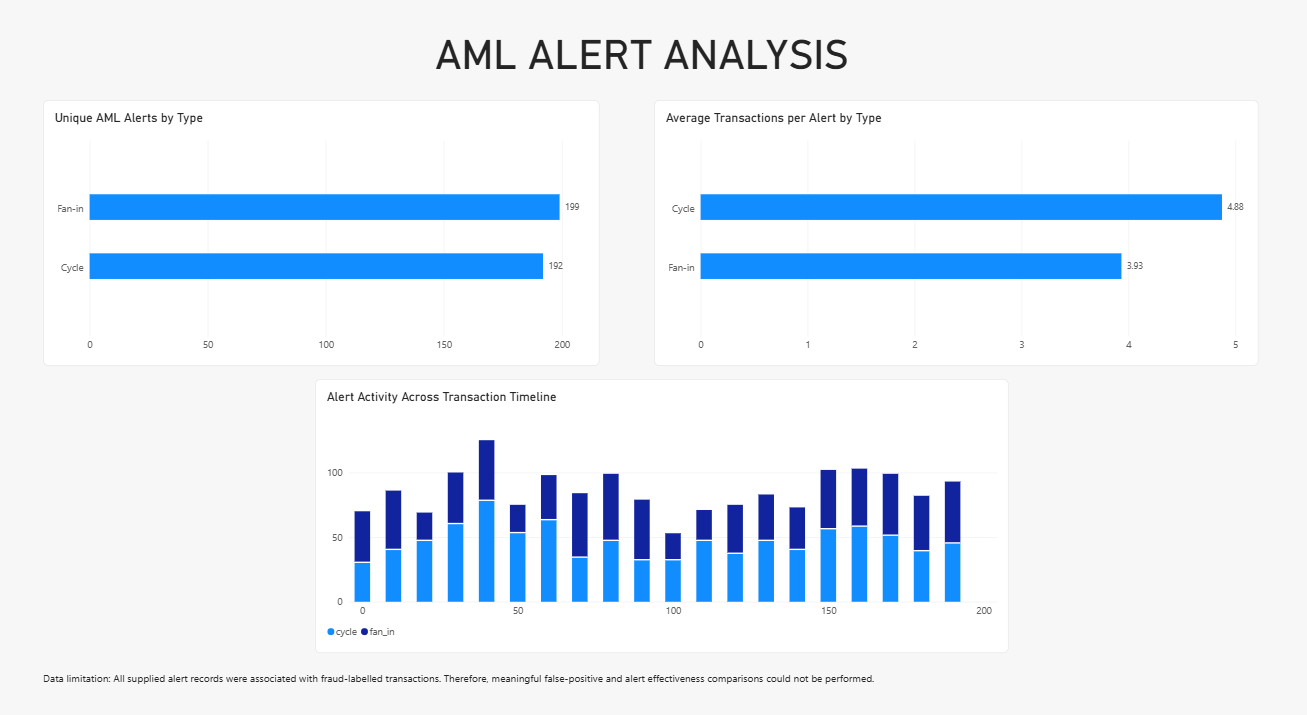

The dashboard page shown, as its layout file describes it:
{"tool":"powerbi","page":{"name":"AML Alert Analysis","canvas":[1920,1080],"ordinal":1},"visuals":[{"type":"textbox","title":" AML ALERT ANALYSIS","box":[640,70,638.3,80],"z":0},{"type":"clusteredBarChart","title":"Unique AML Alerts by Type","fields":{"Y":["public alerts.Unique AML Alerts"],"Category":["public alerts.Alert Type Display"]},"box":[68.3,170,811.7,388.3],"z":1000},{"type":"barChart","title":"Average Transactions per Alert by Type","fields":{"Category":["public alerts.Alert Type Display"],"Y":["public alerts.Transactions per Alert"]},"box":[960,170,881.7,388.3],"z":2000},{"type":"columnChart","title":"Alert Activity Across Transaction Timeline","fields":{"Y":["public alerts.Total AML Alerts"],"Category":["public alerts.Alert Period"],"Series":["public alerts.alert_type"]},"box":[465,578.3,1011.7,400],"z":3000},{"type":"textbox","box":[68.3,946.7,1253.3,101.7],"z":4000}]}

Visuals, with their boxes in screenshot pixels (x1, y1, x2, y2), scaled from the page's 1920x1080 canvas onto the 1307x715 screenshot:
" AML ALERT ANALYSIS" textbox: 436, 46, 870, 99
"Unique AML Alerts by Type" clusteredBarChart: 46, 113, 599, 370
"Average Transactions per Alert by Type" barChart: 654, 113, 1254, 370
"Alert Activity Across Transaction Timeline" columnChart: 317, 383, 1005, 648
textbox: 46, 627, 900, 694
